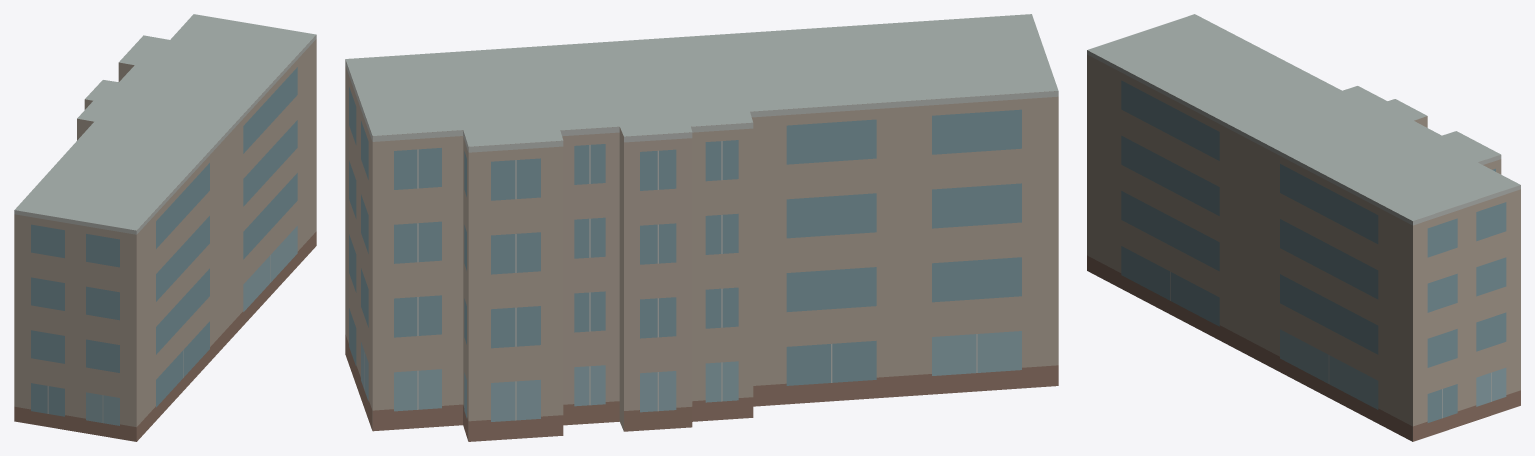
The model's file is survey-upis-32529316.glb.
3 views of the same model, side by side, from view 1: azimuth 30°, elevation 25°; view 2: azimuth 150°, elevation 25°; view 3: azimuth 270°, elevation 25° (orthographic). The views are drawn at different scales.
Visible parts, largest first — view 1: survey-upis-32529316.tmp; view 2: survey-upis-32529316.tmp; view 3: survey-upis-32529316.tmp.
Boxes of the visible parts, <box> form: survey-upis-32529316.tmp: <box>14,14,316,441</box>; survey-upis-32529316.tmp: <box>345,14,1058,441</box>; survey-upis-32529316.tmp: <box>1087,14,1520,441</box>.
Bounding box in the file's own units: 24.56 × 12.2 × 21.74.
